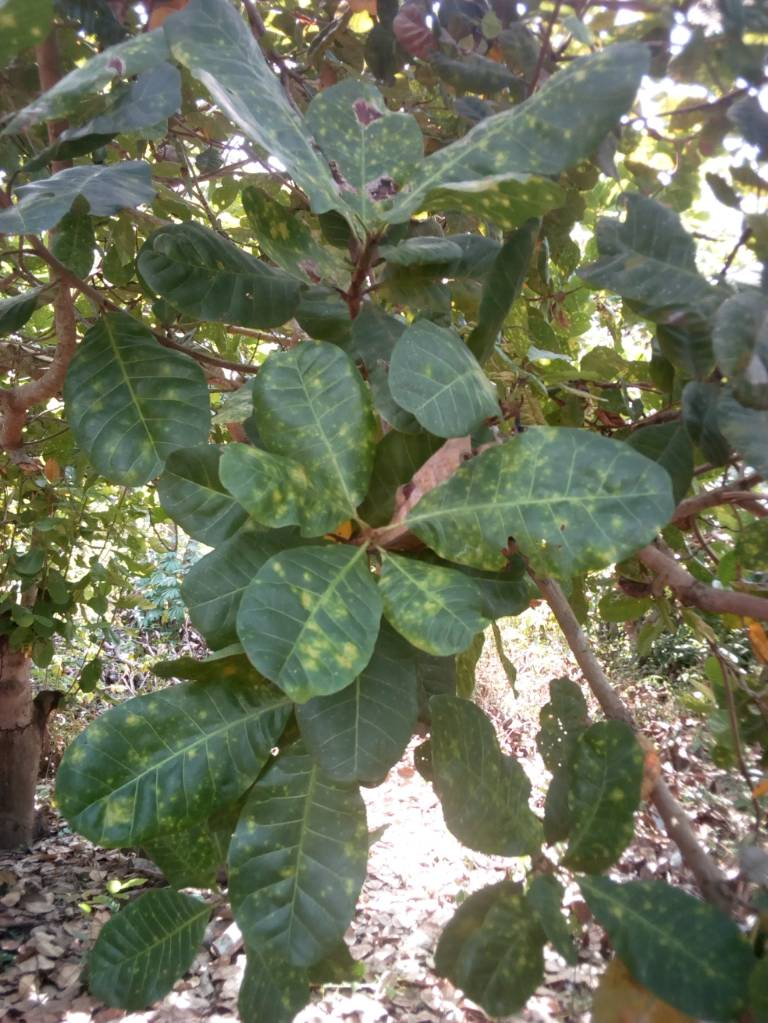Alternariose: (418, 52, 650, 222), (52, 678, 271, 852), (410, 427, 672, 571), (225, 755, 368, 966), (219, 341, 368, 533), (63, 327, 211, 489), (241, 542, 380, 705), (596, 871, 738, 1011), (544, 724, 641, 871), (377, 547, 485, 658)
